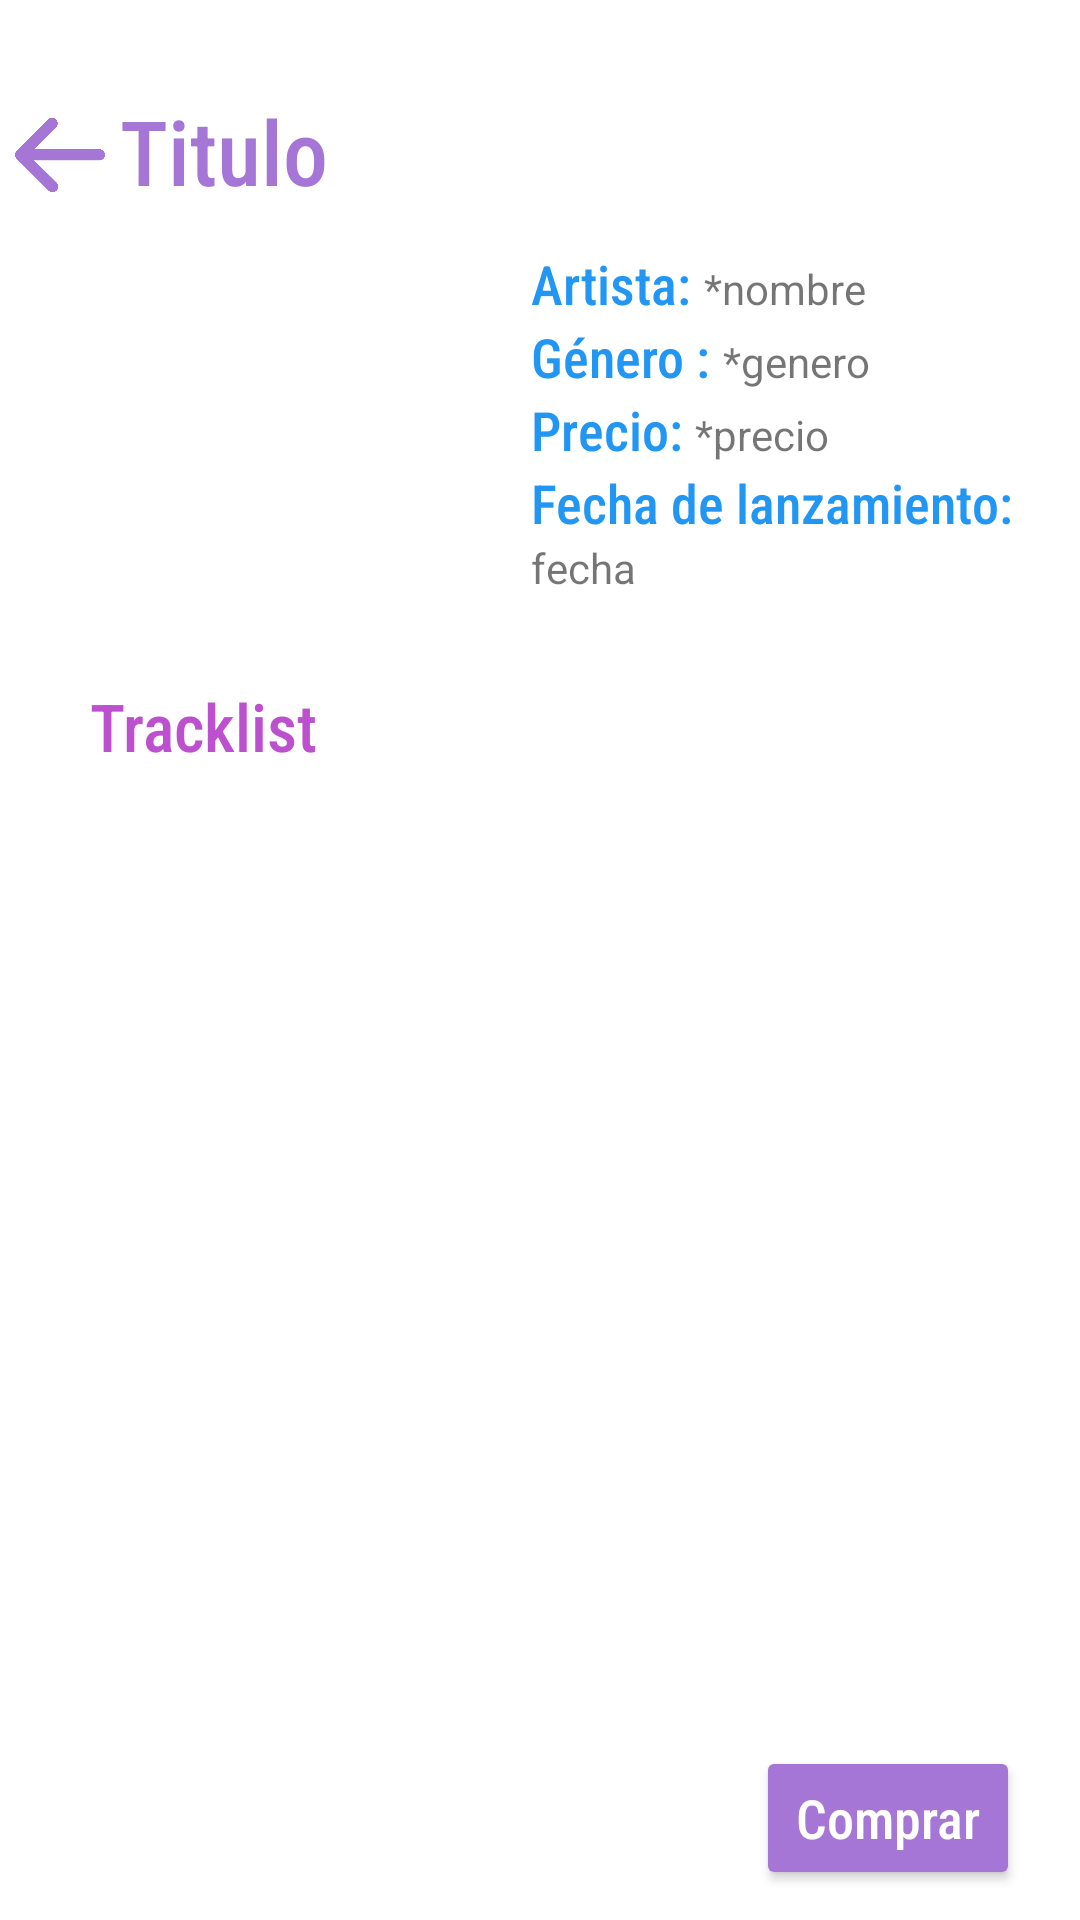

Where to tap for icons on this 1080 × 1920 app screen, as (x=x, y=y):
flecha: (x=60, y=155)
